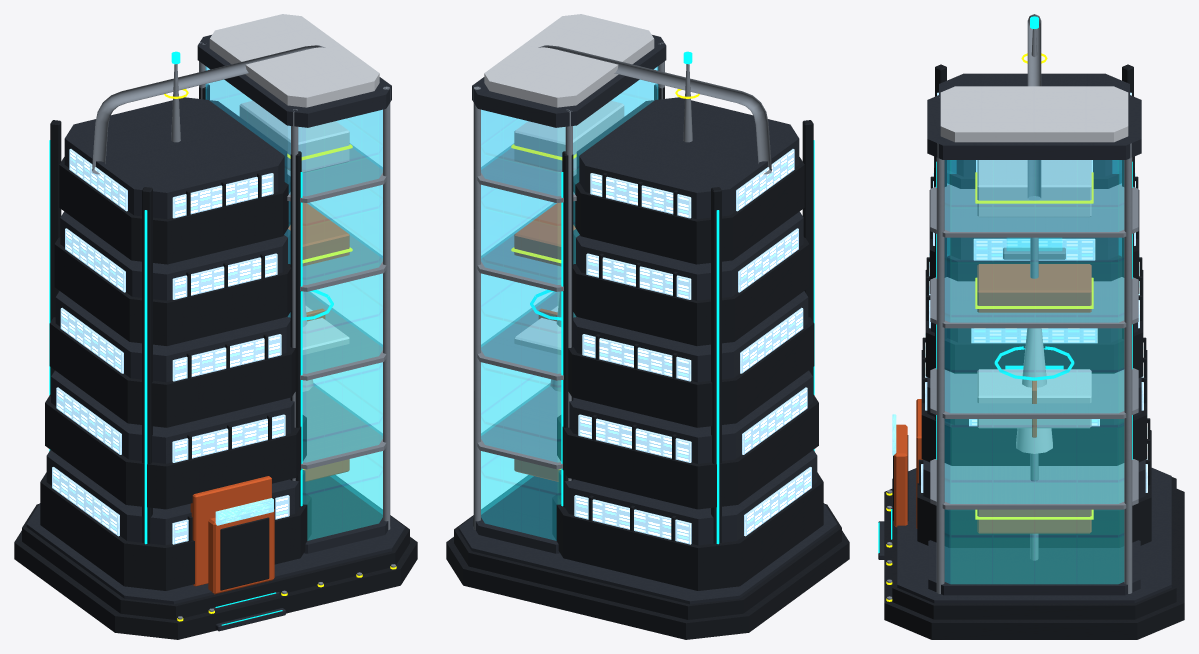
Rendered from bldg_16_winner_01_shipyard_drydock_hall.glb.
3 views of the same model, side by side, from view 1: azimuth 30°, elevation 25°; view 2: azimuth 150°, elevation 25°; view 3: azimuth 270°, elevation 25° (orthographic). The views are drawn at different scales.
Visible parts, largest first — view 1: Bldg16_C02_gunmetal, Bldg16_C02_carbon_slate, Bldg16_C02_glass_cyan, Bldg16_C02_steel_machined, Bldg16_C02_window_lit, Bldg16_C02_aero_white, Bldg16_C02_accent_orange, Bldg16_C02_led_cyan, Bldg16_C02_marquee, Bldg16_C02_led_amber; view 2: Bldg16_C02_gunmetal, Bldg16_C02_carbon_slate, Bldg16_C02_glass_cyan, Bldg16_C02_steel_machined, Bldg16_C02_window_lit, Bldg16_C02_aero_white, Bldg16_C02_led_cyan, Bldg16_C02_accent_orange; view 3: Bldg16_C02_glass_cyan, Bldg16_C02_gunmetal, Bldg16_C02_steel_machined, Bldg16_C02_carbon_slate, Bldg16_C02_aero_white, Bldg16_C02_accent_orange, Bldg16_C02_window_lit, Bldg16_C02_led_amber, Bldg16_C02_led_cyan.
Boxes of the visible parts, box(x1,y1,x2,y2) form: Bldg16_C02_gunmetal: box(14, 84, 417, 639); Bldg16_C02_carbon_slate: box(26, 35, 405, 631); Bldg16_C02_glass_cyan: box(205, 66, 382, 540); Bldg16_C02_steel_machined: box(92, 42, 395, 619); Bldg16_C02_window_lit: box(52, 149, 289, 544); Bldg16_C02_aero_white: box(209, 14, 379, 391); Bldg16_C02_accent_orange: box(190, 202, 349, 594); Bldg16_C02_led_cyan: box(49, 51, 333, 625); Bldg16_C02_marquee: box(215, 498, 273, 525); Bldg16_C02_led_amber: box(164, 89, 396, 621); Bldg16_C02_gunmetal: box(446, 84, 849, 639); Bldg16_C02_carbon_slate: box(458, 35, 837, 604); Bldg16_C02_glass_cyan: box(481, 66, 658, 540); Bldg16_C02_steel_machined: box(473, 42, 771, 529); Bldg16_C02_window_lit: box(574, 149, 811, 544); Bldg16_C02_aero_white: box(484, 14, 654, 391); Bldg16_C02_led_cyan: box(530, 51, 814, 544); Bldg16_C02_accent_orange: box(514, 202, 575, 481); Bldg16_C02_glass_cyan: box(945, 160, 1123, 583); Bldg16_C02_gunmetal: box(884, 64, 1184, 639); Bldg16_C02_steel_machined: box(887, 14, 1138, 599); Bldg16_C02_carbon_slate: box(878, 73, 1171, 603); Bldg16_C02_aero_white: box(940, 86, 1128, 453); Bldg16_C02_accent_orange: box(894, 264, 1091, 533); Bldg16_C02_window_lit: box(921, 92, 1147, 492); Bldg16_C02_led_amber: box(886, 53, 1093, 601); Bldg16_C02_led_cyan: box(878, 16, 1132, 553).
Size of the model in its own units: 12.5 by 20.32 by 10.71.
10 materials, 10 textured.
